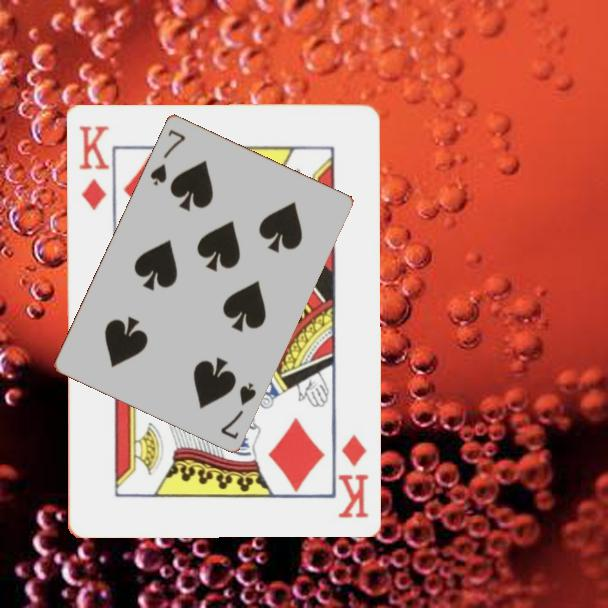d13: (334, 430, 371, 520), (75, 122, 111, 212)
s07: (146, 125, 188, 188), (217, 379, 259, 442)
